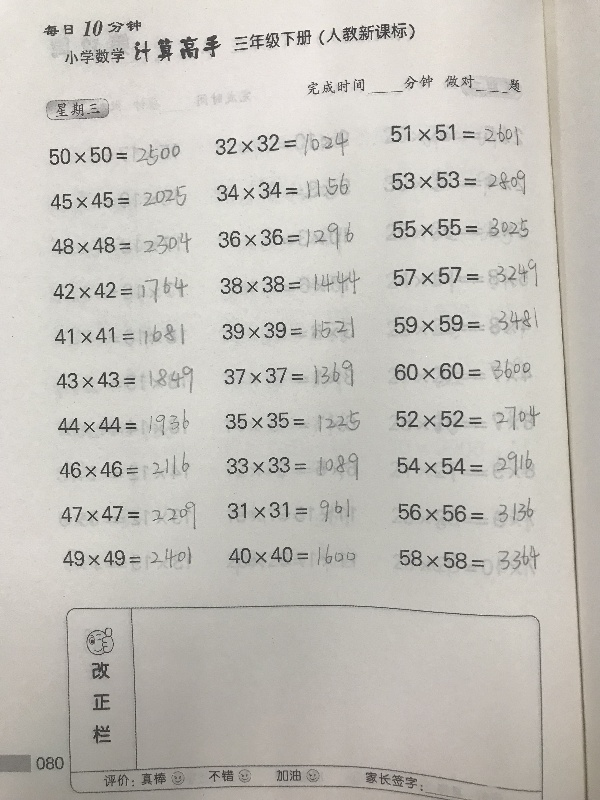equation: (58, 498, 200, 533), (223, 449, 362, 484), (214, 221, 357, 255), (389, 256, 539, 288), (390, 304, 539, 336), (49, 275, 193, 308), (46, 179, 188, 212), (392, 404, 543, 435), (221, 356, 357, 390), (389, 167, 530, 199), (395, 540, 540, 571), (52, 361, 196, 392), (54, 409, 193, 441), (394, 447, 536, 478), (213, 173, 351, 204), (394, 495, 536, 525), (48, 231, 194, 260), (218, 313, 358, 343), (212, 129, 352, 159), (390, 356, 534, 385), (55, 451, 192, 481), (389, 214, 533, 242), (46, 141, 184, 170), (222, 408, 364, 436), (387, 118, 522, 147), (225, 541, 359, 570), (225, 496, 354, 526), (52, 320, 188, 348), (59, 545, 194, 572), (216, 271, 303, 296)
